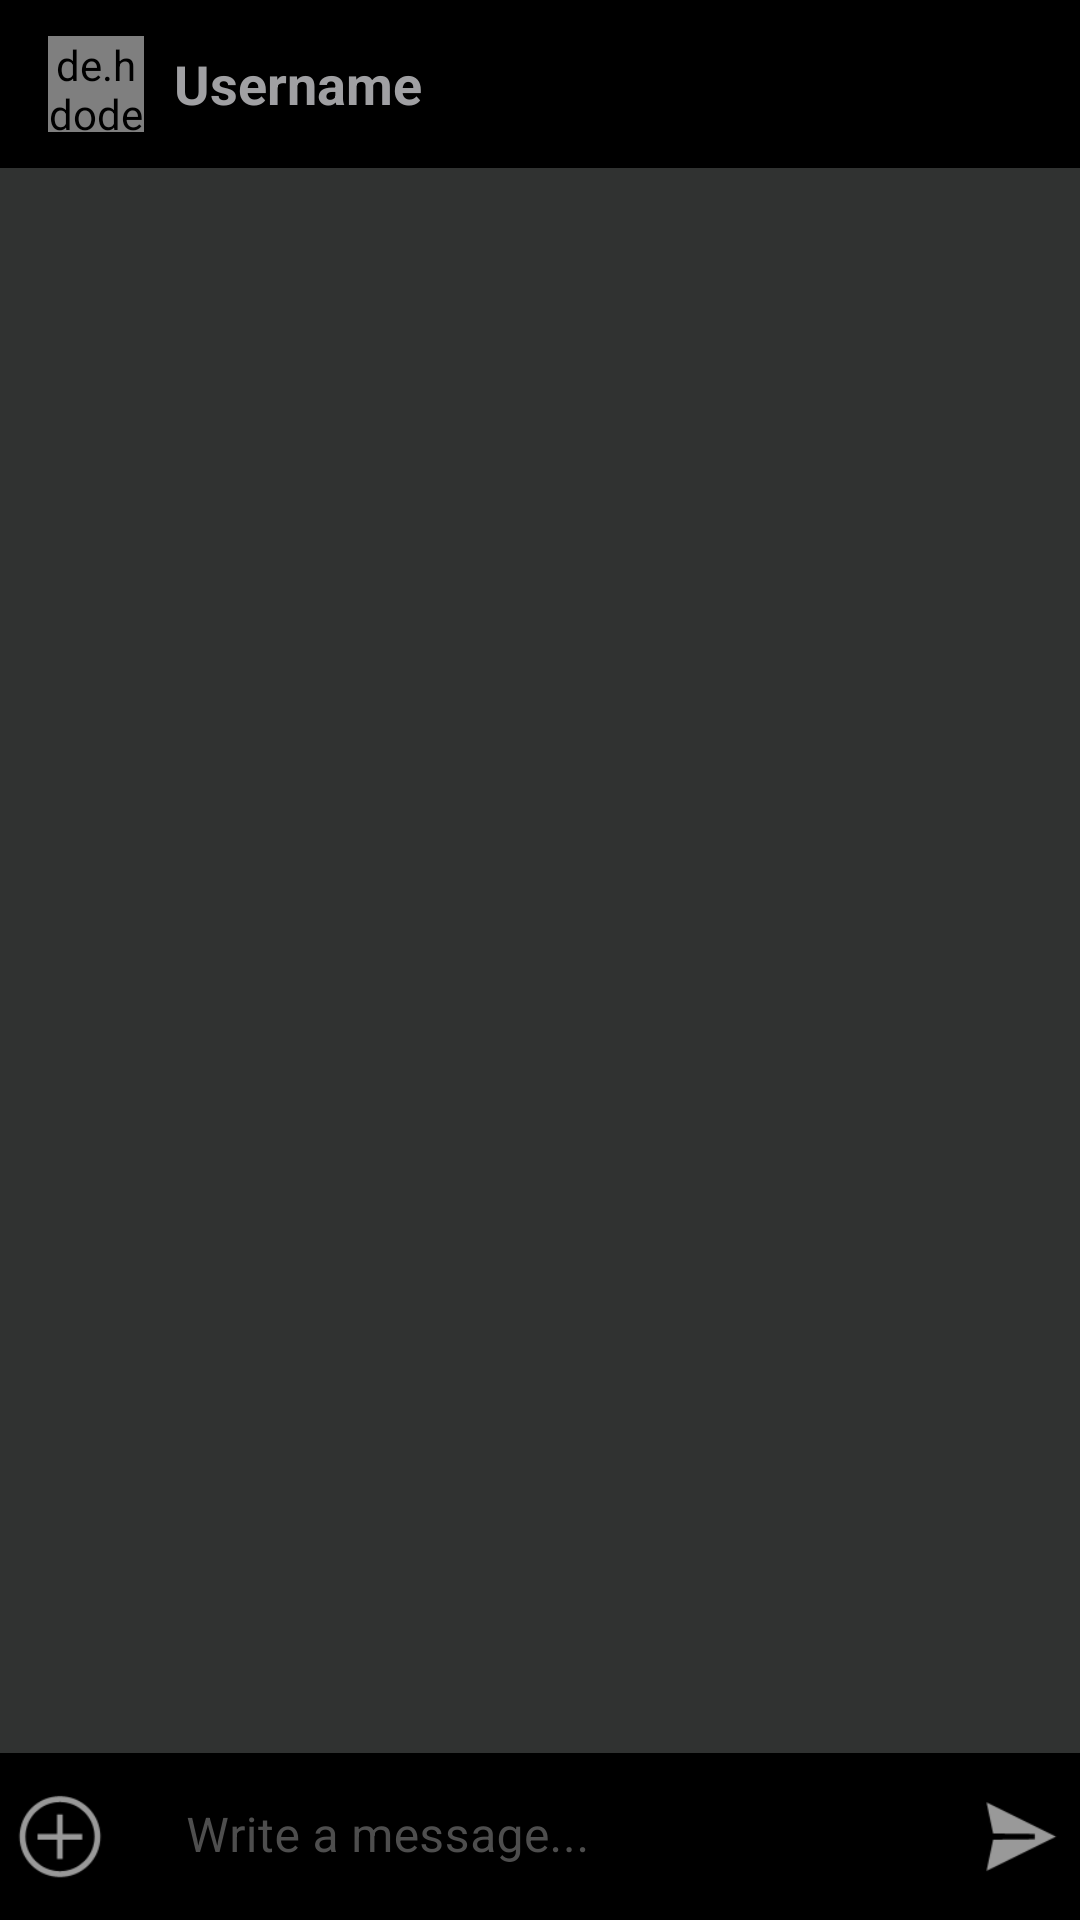

Where to tap for icons on this 1080x1920 app screen, as [x,y]:
add: [60,1837]
send: [1021,1836]
